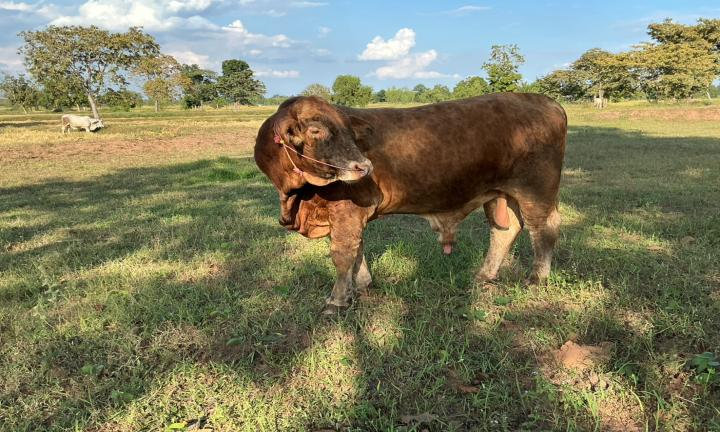Charolais: (255, 93, 566, 313)
